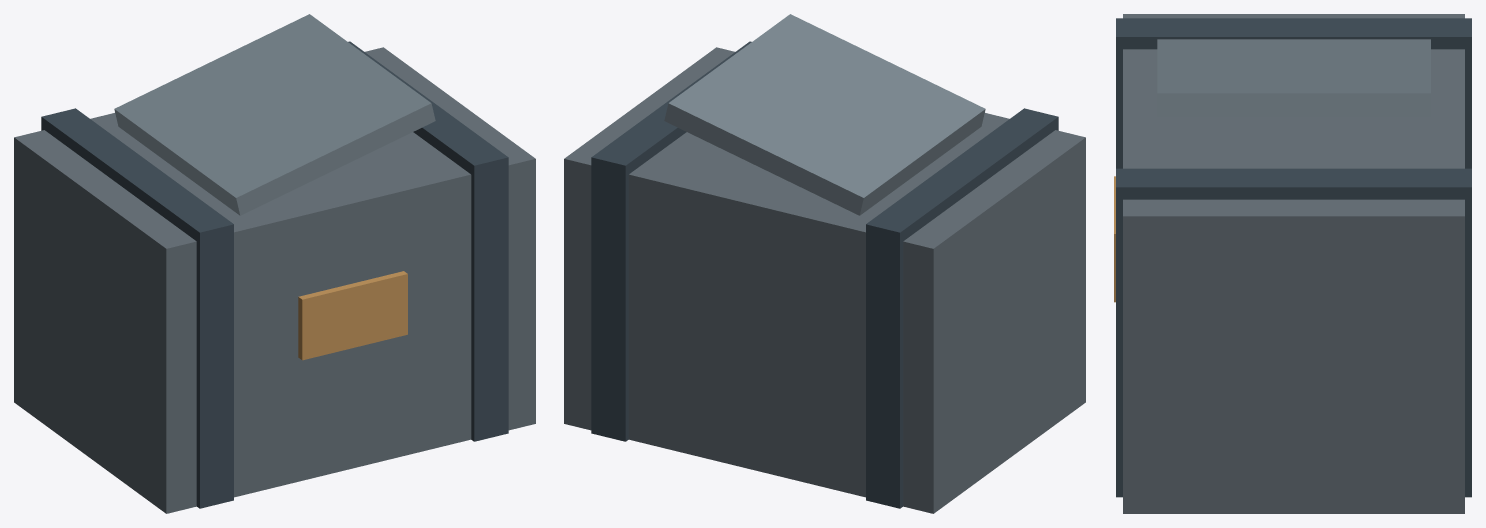
File: DS_AirlockCargo.glb
The picture shows the model from 3 angles, left to right: view 1: azimuth 30°, elevation 25°; view 2: azimuth 150°, elevation 25°; view 3: azimuth 270°, elevation 25°; orthographic projection. The views are drawn at different scales.
Visible parts, largest first — view 1: DS_AirlockCargo; view 2: DS_AirlockCargo; view 3: DS_AirlockCargo.
Boxes of the visible parts, x1,y1,x2,y2 form: DS_AirlockCargo: [14, 14, 535, 513]; DS_AirlockCargo: [564, 14, 1085, 513]; DS_AirlockCargo: [1114, 14, 1471, 513].
Size of the model in its own units: 7 by 6 by 5.23.
Materials: 1 (1 with a texture image).
